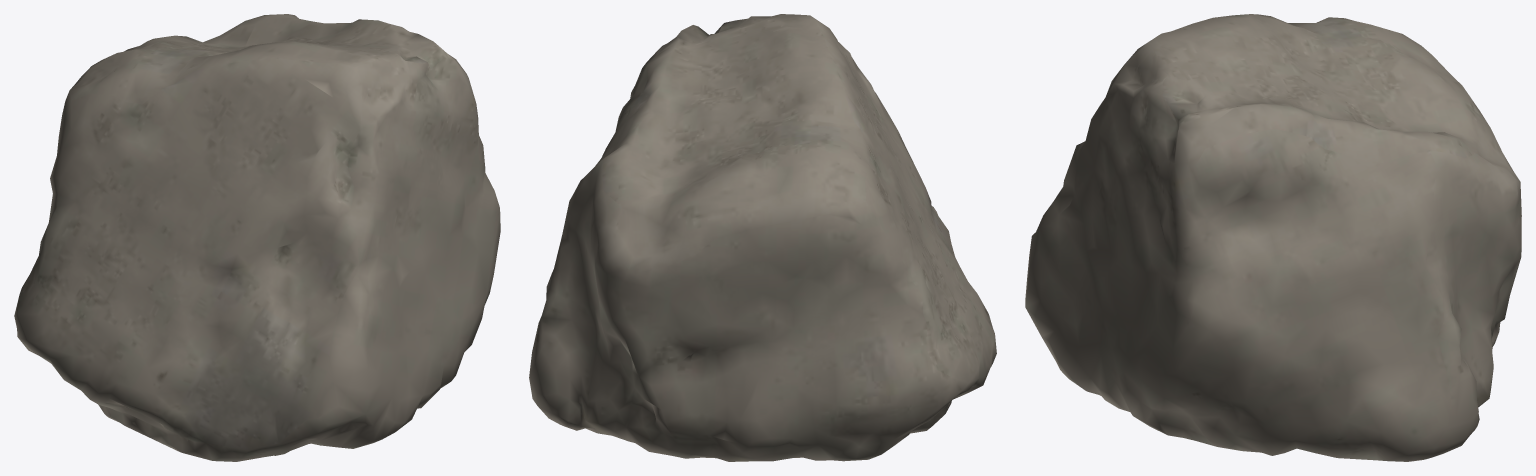
The model's file is moon-rock-02.glb.
The picture shows the model from 3 angles, left to right: view 1: azimuth 30°, elevation 25°; view 2: azimuth 150°, elevation 25°; view 3: azimuth 270°, elevation 25°; orthographic projection. The views are drawn at different scales.
Parts seen in each view (by area): view 1: moon_rock_02_LOD0; view 2: moon_rock_02_LOD0; view 3: moon_rock_02_LOD0.
Part boxes in pixels (x1,y1,x2,y2): moon_rock_02_LOD0: [14, 14, 500, 461]; moon_rock_02_LOD0: [529, 14, 996, 461]; moon_rock_02_LOD0: [1025, 14, 1521, 461].
Bounding box in the file's own units: 1.21 × 0.9951 × 1.24.
1 material, 1 textured.
